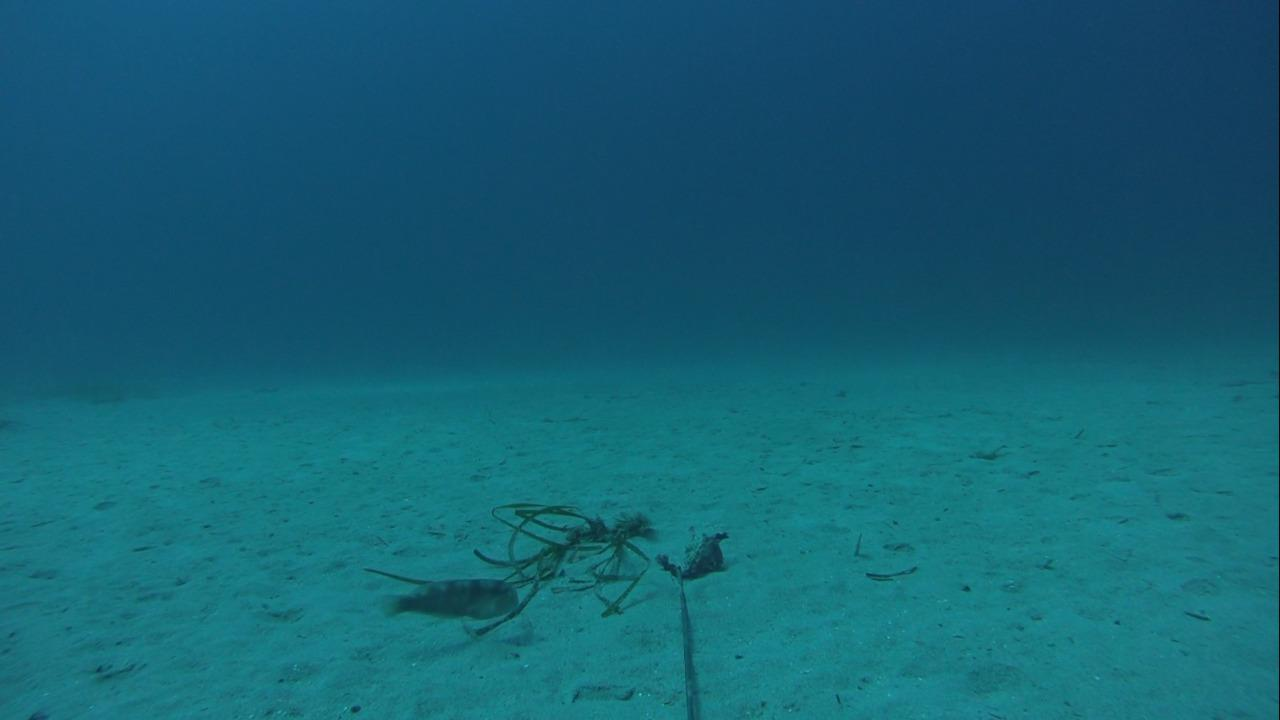raor: (372, 573, 524, 625)
